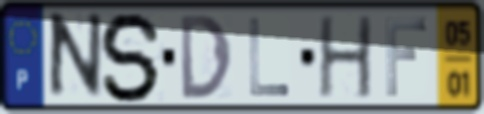D: (177, 12, 235, 102)
F: (382, 15, 429, 99)
H: (315, 13, 375, 101)
L: (246, 16, 292, 99)
N: (45, 9, 105, 105)
S: (97, 9, 166, 105)
